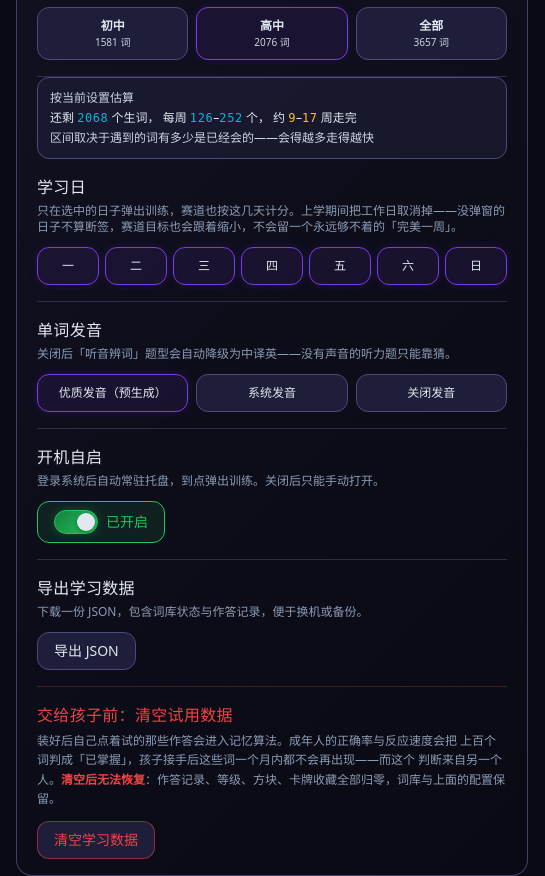
Test: 设置面板 › 清空学习数据 › 确认后清空并显示清了多少行
(page scrolled)
Click the button "清空学习数据" at (96, 840), box top-left (37, 821), bottom-right (155, 859)
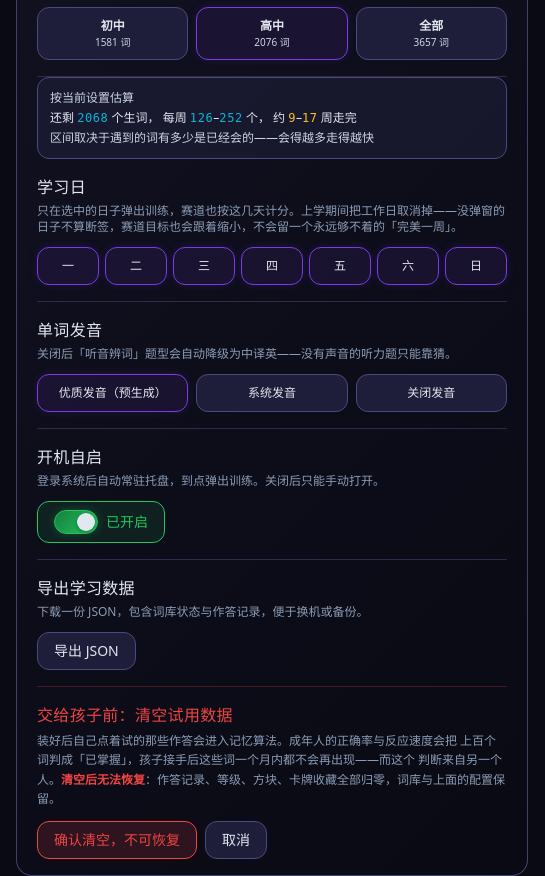
Click the button "确认清空，不可恢复" at (117, 840), box top-left (37, 821), bottom-right (197, 859)
(page scrolled)
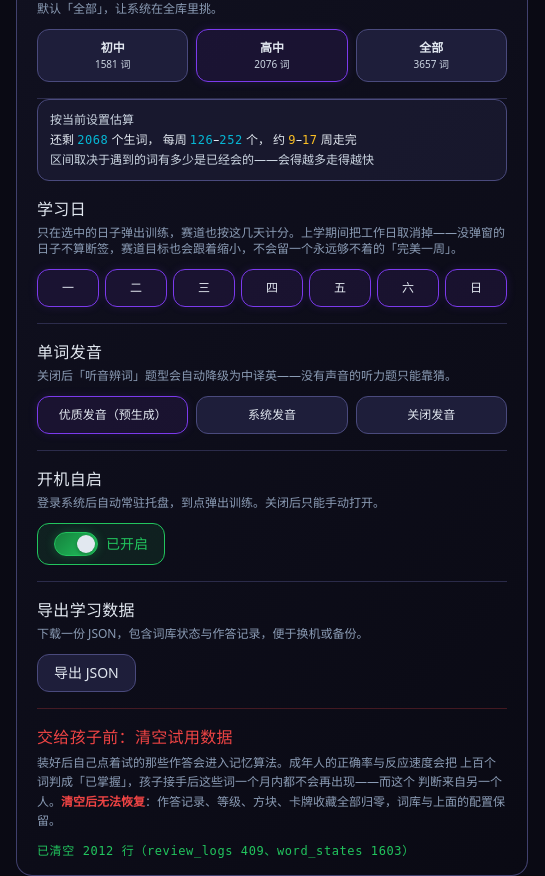
Check: the text "2012" is shown, box top-left (83, 844), bottom-right (114, 858)
Check: the text "review_logs 409" is shown, box top-left (134, 844), bottom-right (415, 858)
